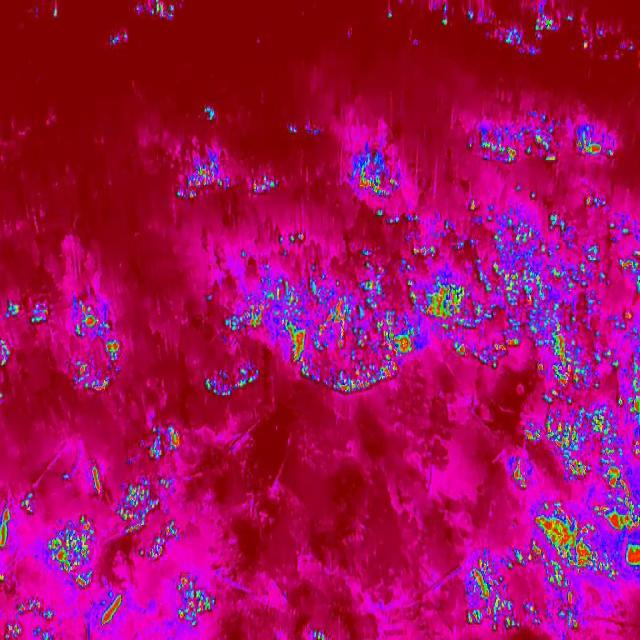fire: (195, 185, 640, 410), (0, 424, 213, 640), (462, 402, 640, 640), (438, 0, 636, 68), (0, 296, 124, 402), (172, 103, 289, 209), (472, 113, 618, 179), (342, 142, 404, 202)
